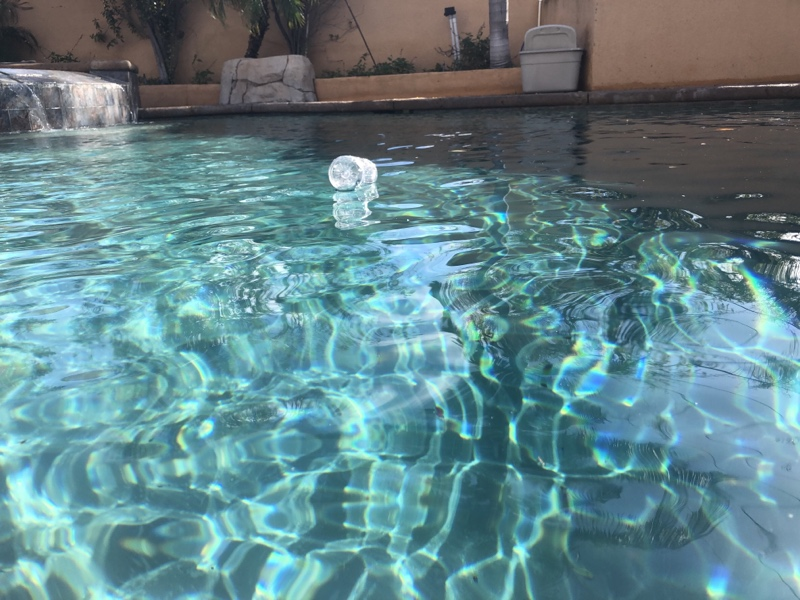Plastic Bottle: (324, 150, 379, 195)
